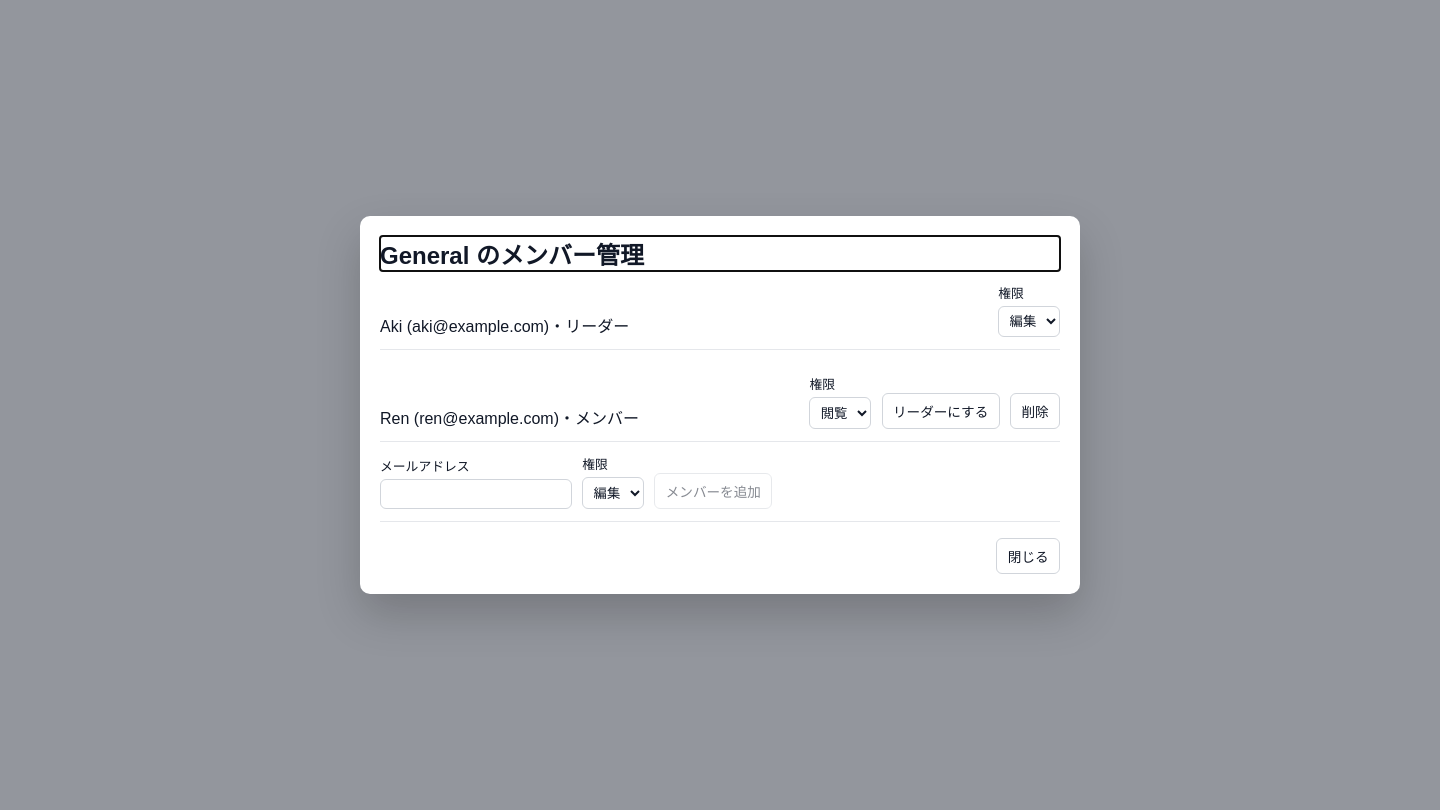
Test: uses leader transfer and immediately updates parent permissions even if the reload fails
Click the button with aria-label "Ren をリーダーにする" at (941, 411), box [882,393,1000,429]
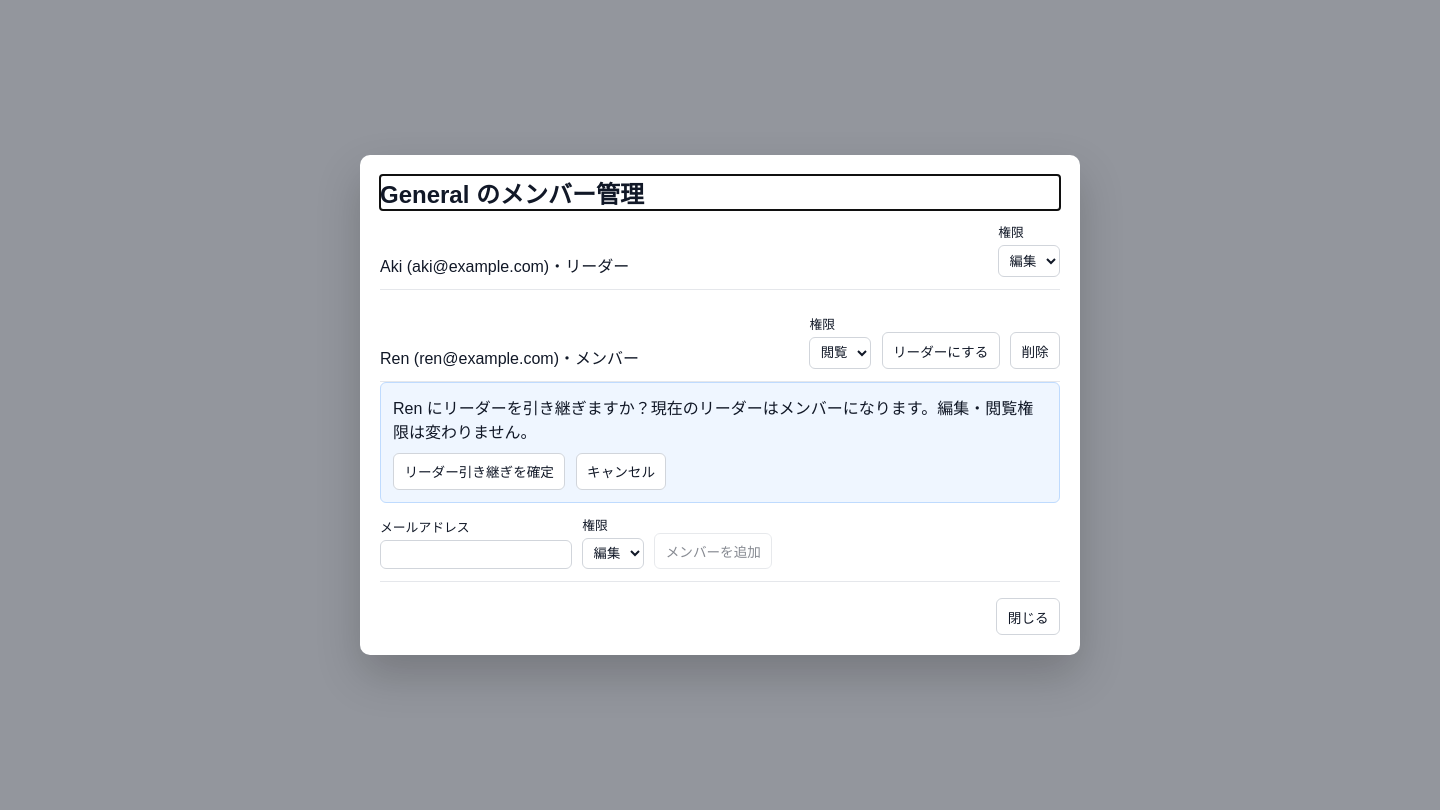
Click the button "リーダー引き継ぎを確定" at (479, 471), box [393,453,565,490]
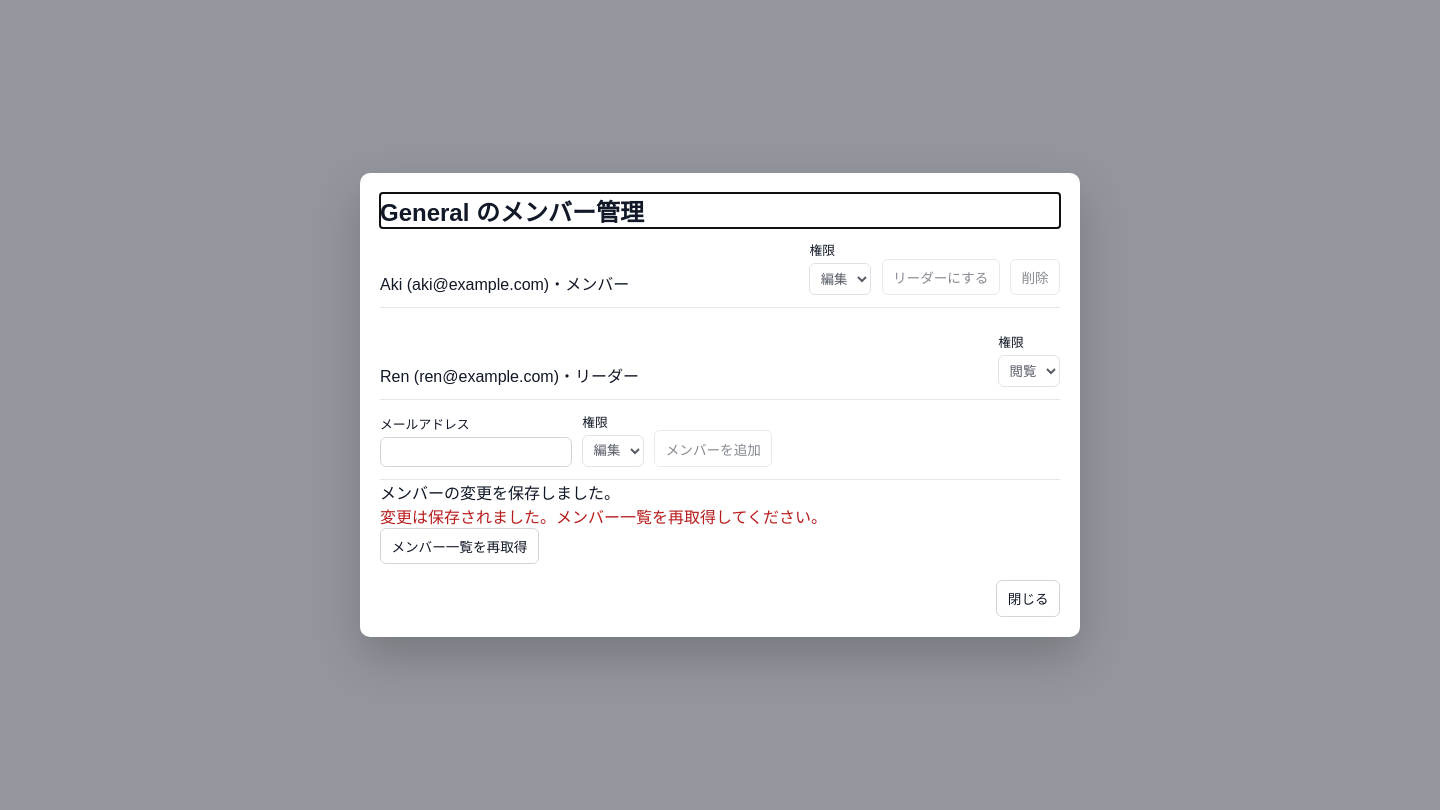
Expected: the message "変更は保存されました。メンバー一覧を再取得してください。" is shown, [380,509,827,526]
Expected: the dropdown named "Aki の権限" is disabled, [809,264,871,295]
Click the button "メンバー一覧を再取得" at (459, 546), box [380,528,539,564]
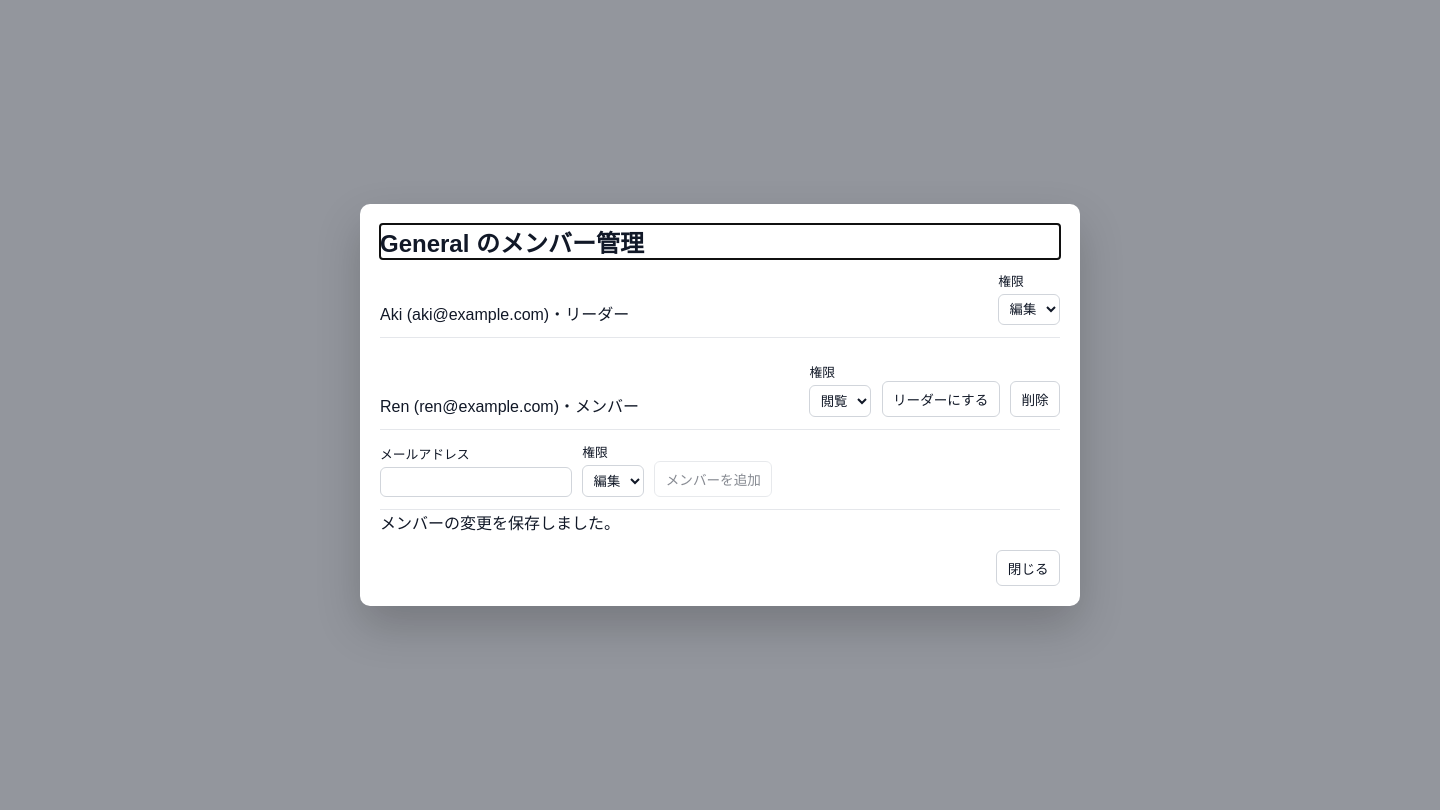
Expected: the message "変更は保存されました。メンバー一覧を再取得してください。" is gone
